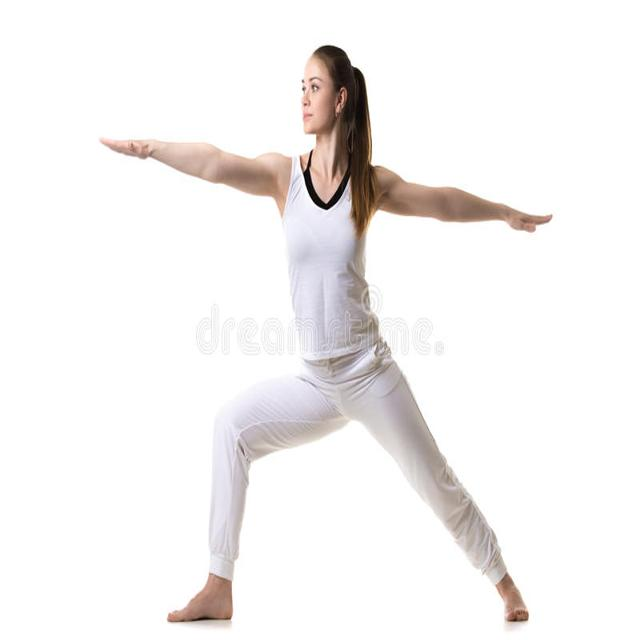Warrior_II: (95, 45, 557, 623)
